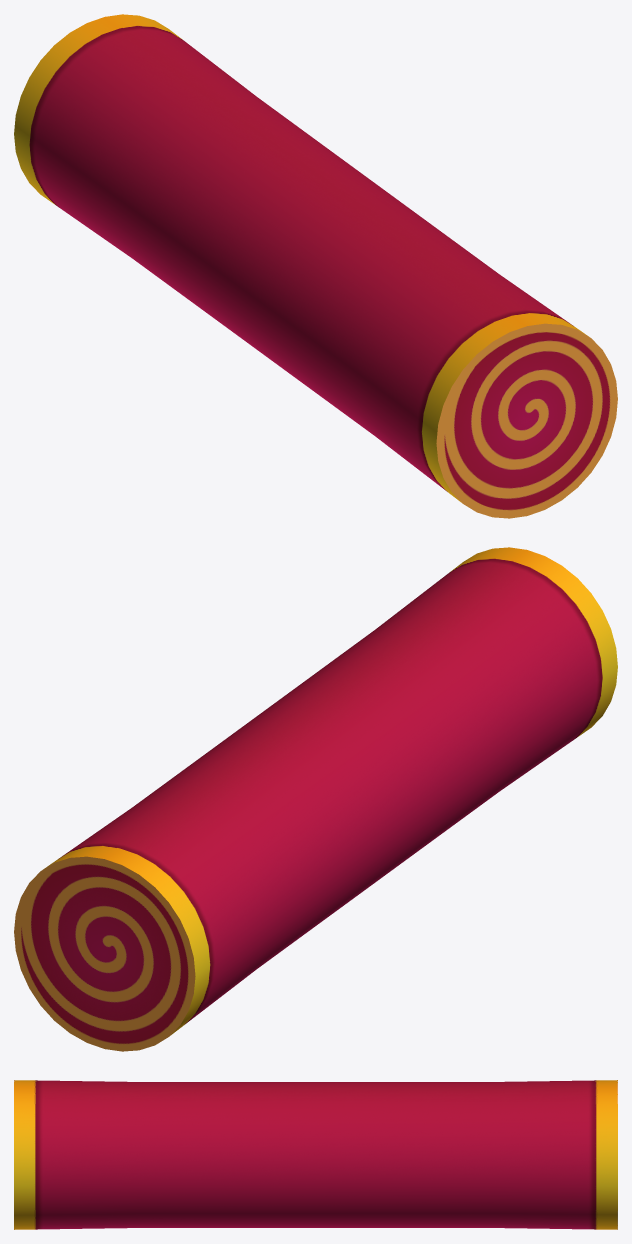
Rendered from carpet-roll.fbx.
3 views of the same model, one above another, from view 1: azimuth 30°, elevation 25°; view 2: azimuth 150°, elevation 25°; view 3: azimuth 270°, elevation 25° (orthographic). The views are drawn at different scales.
Parts seen in each view (by area): view 1: Cylinder.001; view 2: Cylinder.001; view 3: Cylinder.001.
Part boxes in pixels (left/top/right/bottom): Cylinder.001: left=14, top=14, right=617, bottom=518; Cylinder.001: left=14, top=547, right=617, bottom=1051; Cylinder.001: left=14, top=1080, right=617, bottom=1229.
Bounding box in the file's own units: 47.14 × 47.14 × 190.
Materials: 1 (1 with a texture image).
